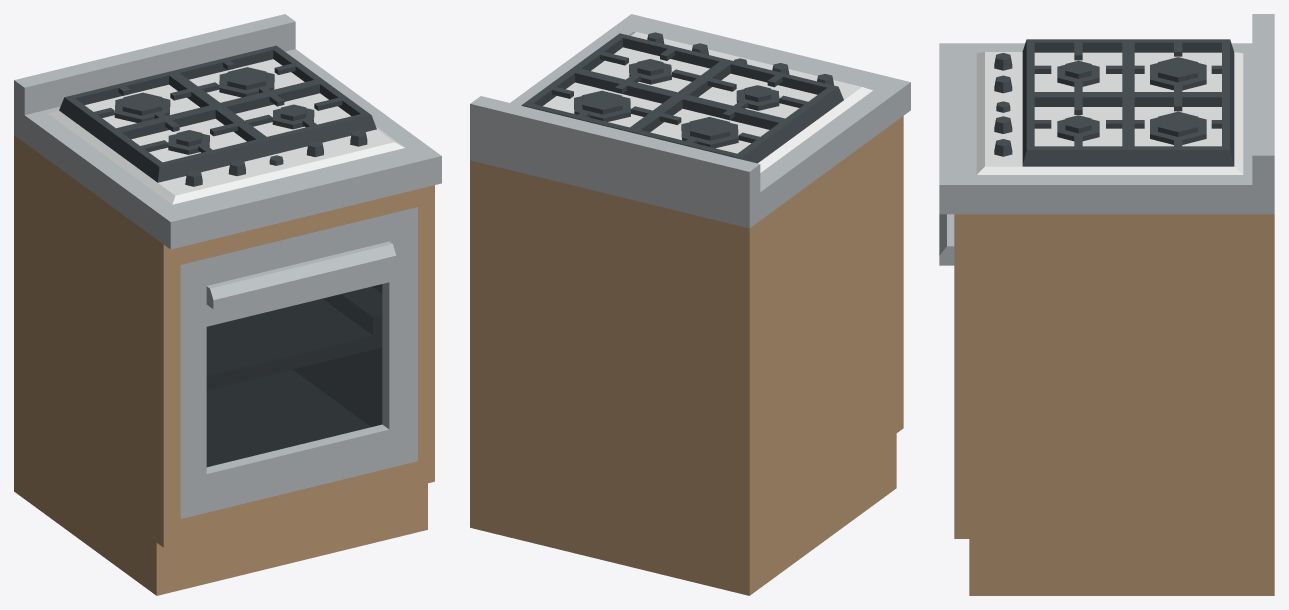
File: range-gas.glb
3 renders of one model, left to right at view 1: azimuth 30°, elevation 25°; view 2: azimuth 150°, elevation 25°; view 3: azimuth 270°, elevation 25°, orthographic. The views are drawn at different scales.
Visible parts, largest first — view 1: range-gas; view 2: range-gas; view 3: range-gas.
Boxes of the visible parts, box(x1,y1,x2,y2) form: range-gas: box(14, 14, 441, 595); range-gas: box(470, 14, 910, 595); range-gas: box(939, 14, 1274, 595).
Size of the model in its own units: 0.6 by 0.87 by 0.6.
